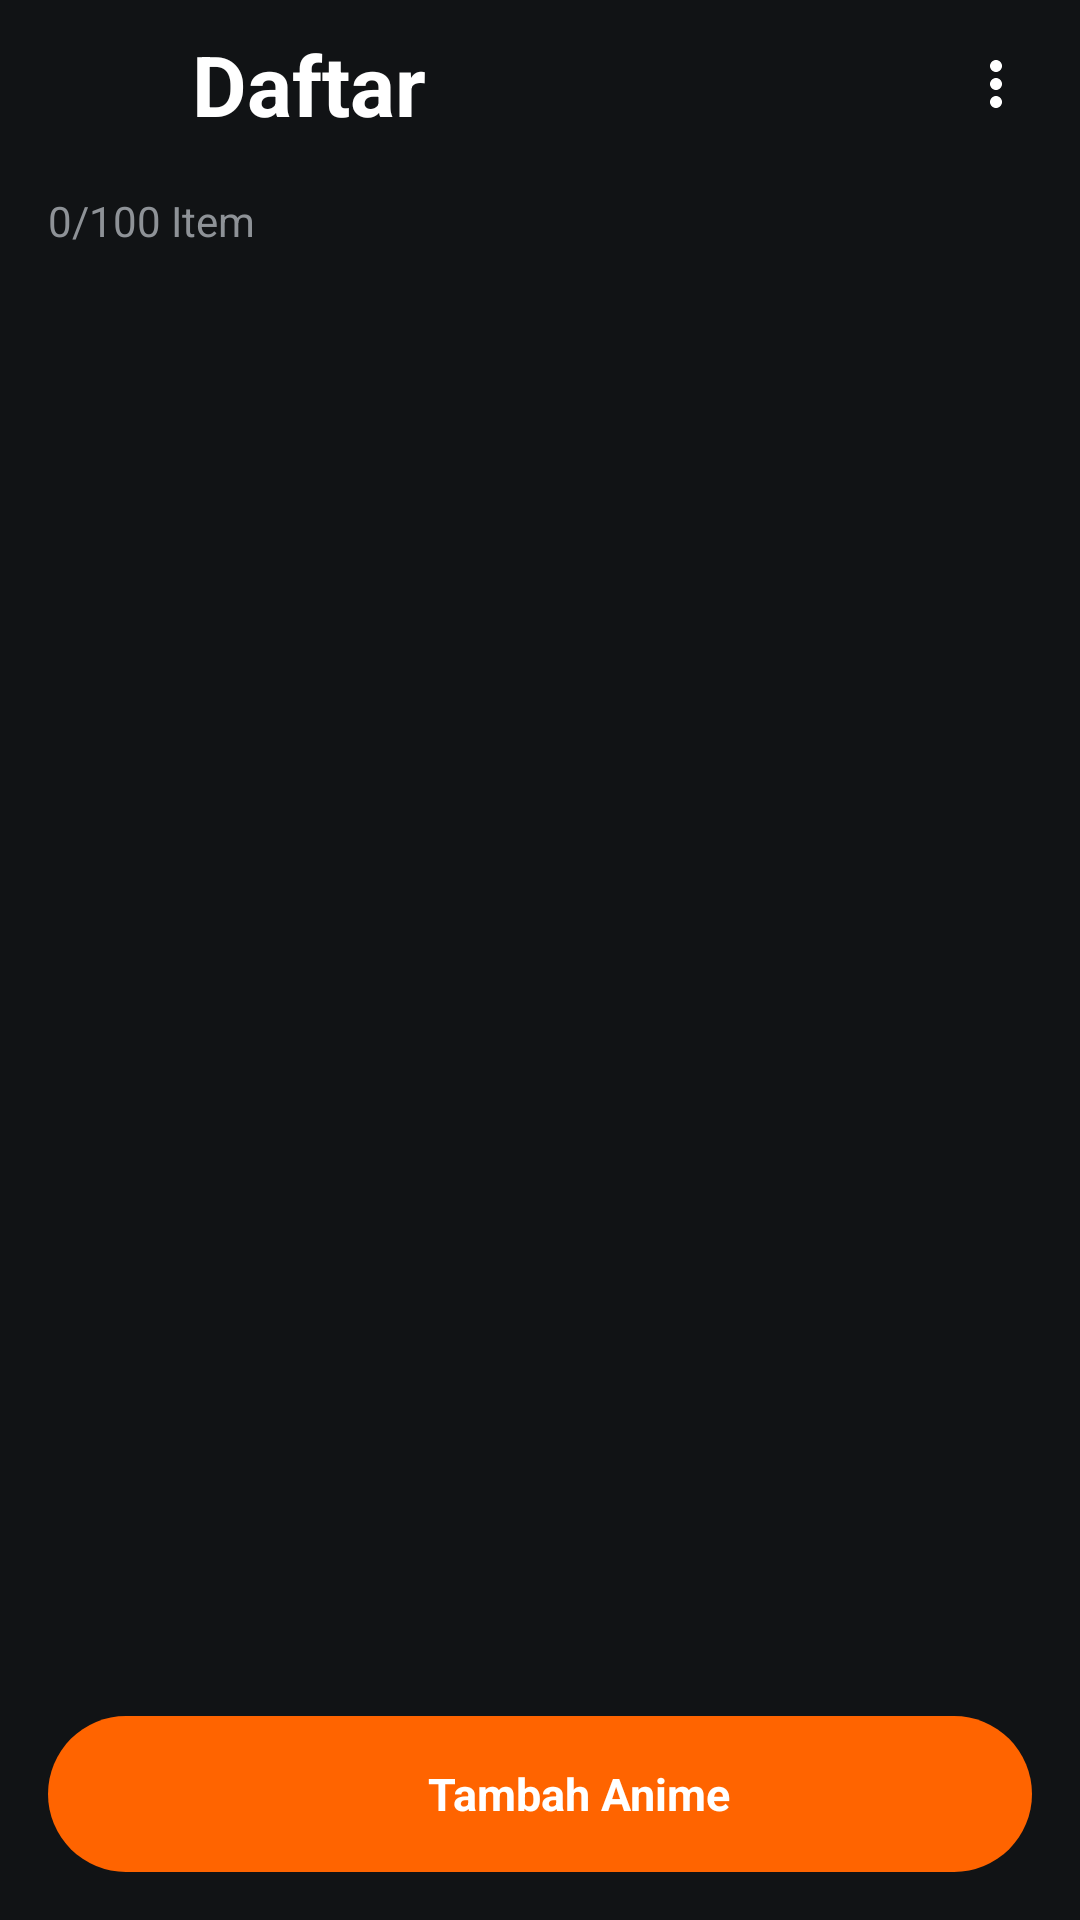

Named icons in this screenshot (1080×1920) and their centers, point (x, y):
more: point (996, 84)
